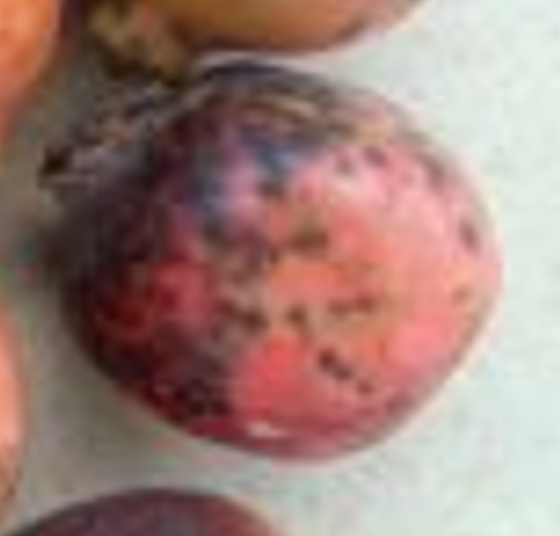pomegranate_C: (39, 57, 503, 460)
